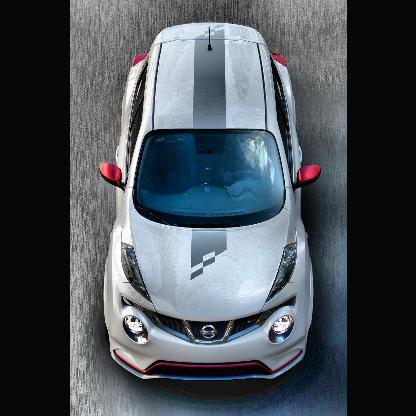Nissan Juke Hatchback 2012: (99, 24, 317, 382)
